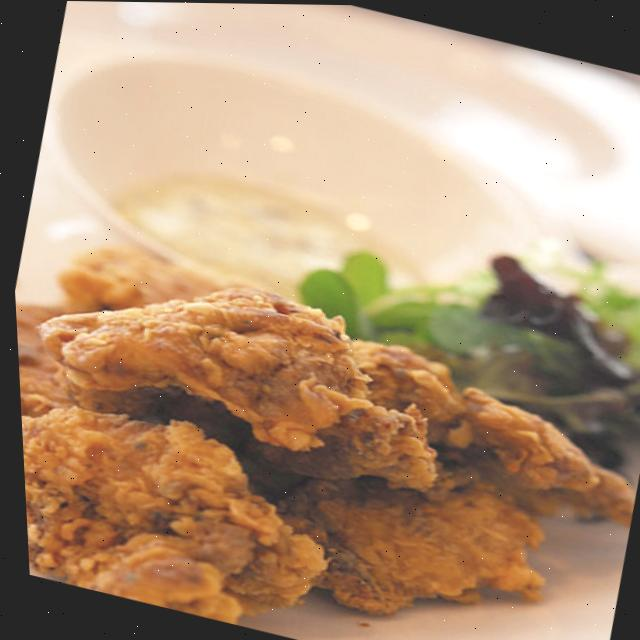鸡肉料理 含炸鸡: (8, 202, 640, 640)
